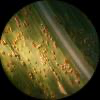Corn rust leaf: (2, 3, 99, 96)
